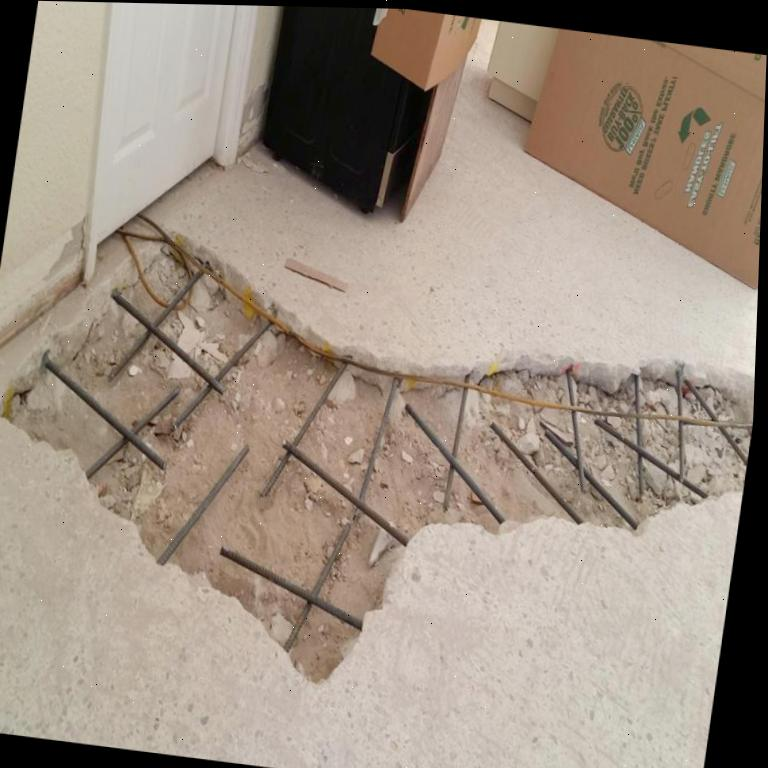exposed_rebar: (220, 362, 409, 651), (113, 270, 269, 429), (41, 353, 179, 475), (541, 368, 639, 528), (405, 375, 505, 523), (594, 375, 708, 501), (158, 445, 250, 564), (491, 422, 583, 523), (675, 364, 748, 483)
spalling: (8, 231, 755, 680)
